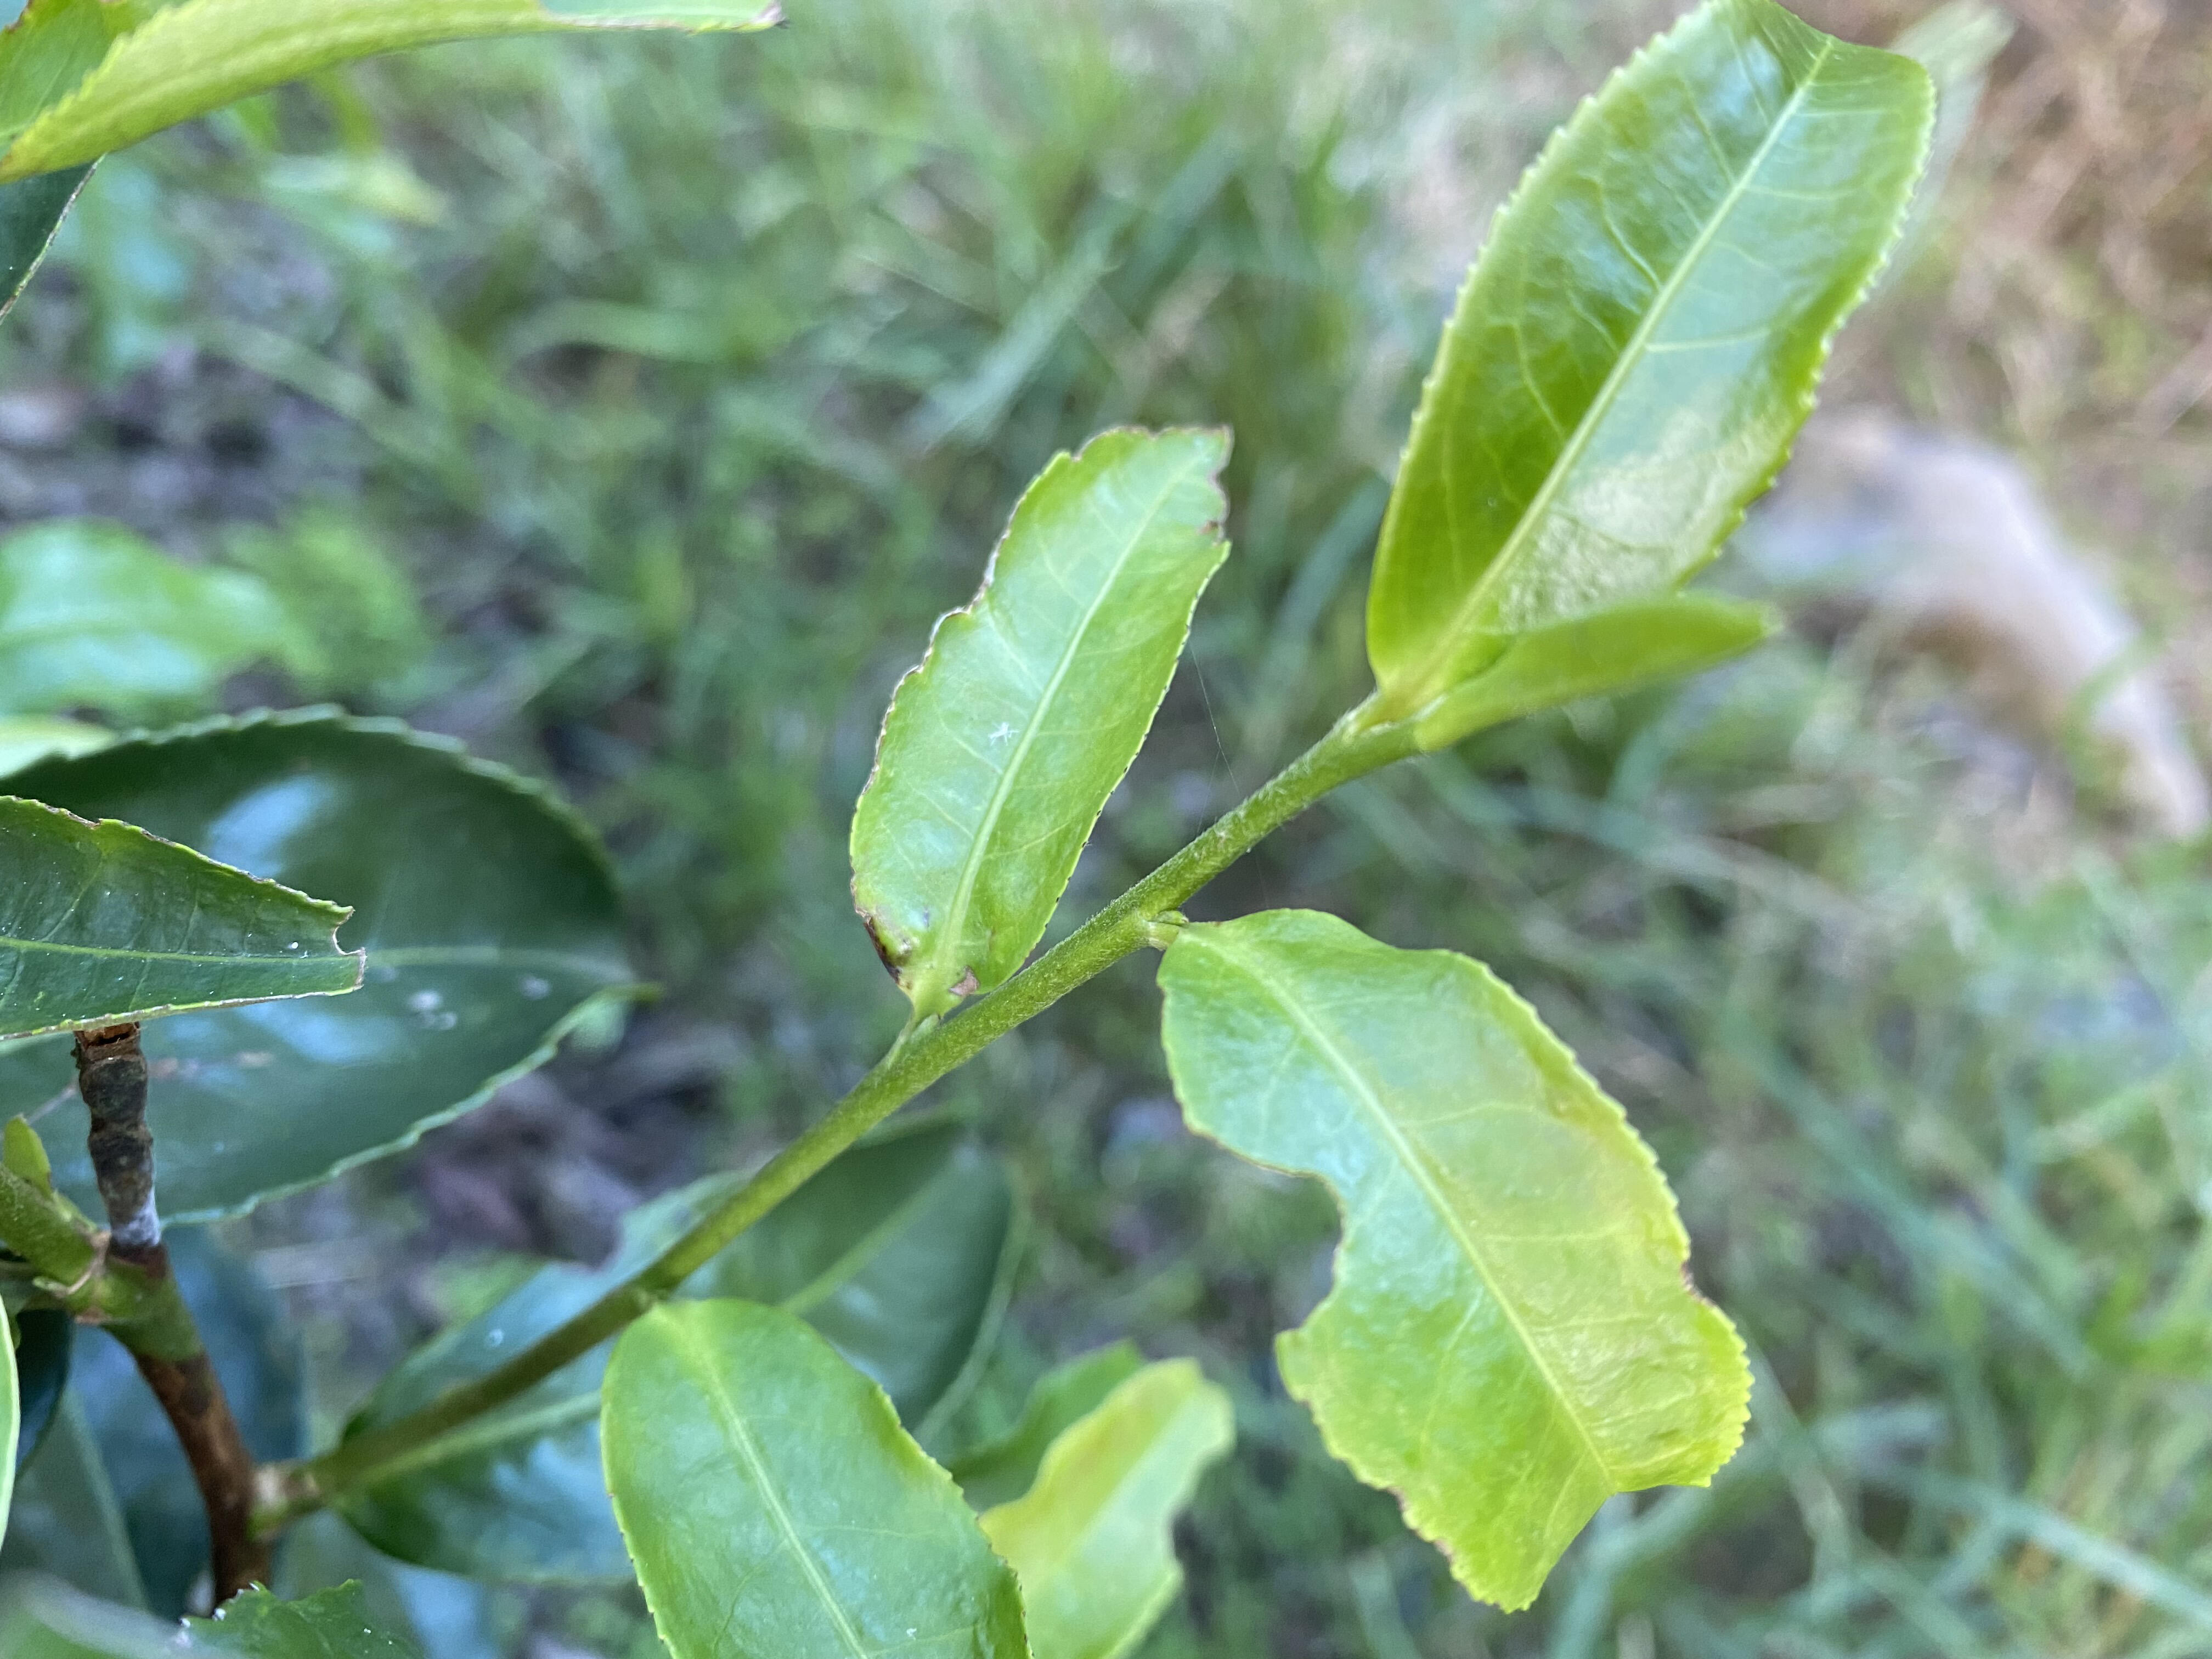chihuo_high: (1153, 904, 1756, 1614), (841, 420, 1240, 1018)
chihuo_low: (3, 789, 368, 1044)
